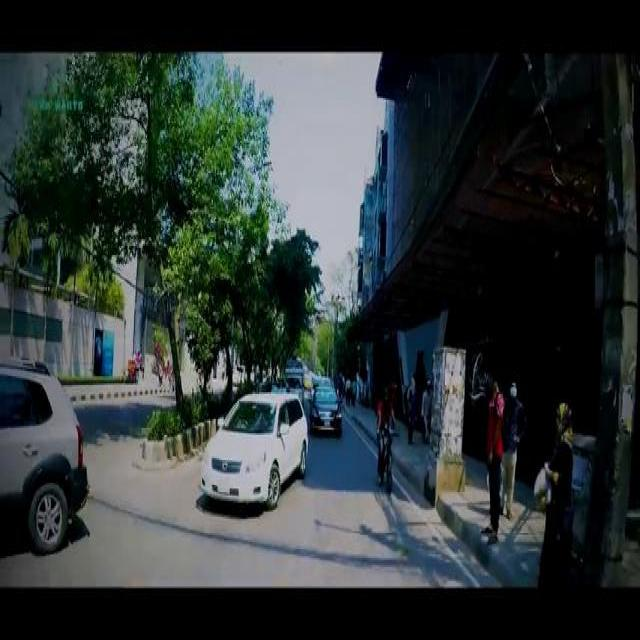bicycle: (376, 427, 398, 491)
car: (0, 359, 89, 545), (198, 390, 308, 500), (309, 382, 341, 429)
pickup: (283, 365, 303, 403)
